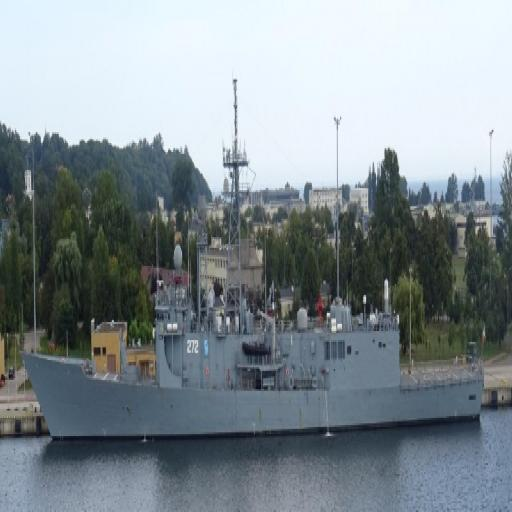Fragata: (17, 79, 488, 468)
